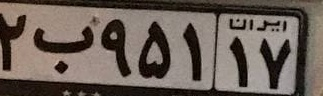character: (31, 18, 97, 78), (134, 14, 175, 84), (99, 13, 134, 80), (256, 34, 296, 91), (176, 14, 207, 87), (1, 8, 30, 76), (226, 33, 256, 91)
